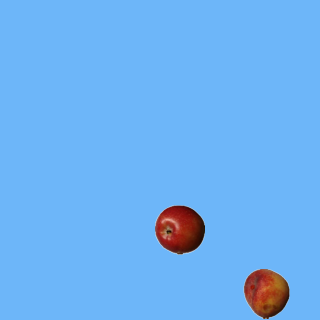Apple Braeburn: (154, 204, 204, 254)
Peach: (241, 268, 291, 318)
